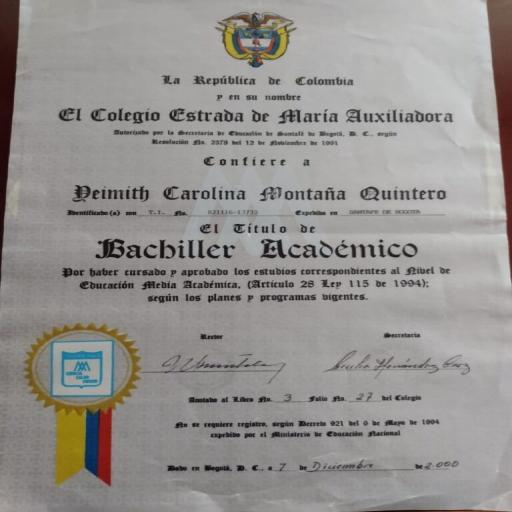bachillerato: (67, 235, 437, 264)
diploma: (0, 0, 511, 511)
escudo: (207, 9, 310, 74)
firma: (317, 341, 488, 381), (145, 344, 298, 384)
institucion: (45, 100, 467, 134)
nombre: (58, 178, 460, 212)
